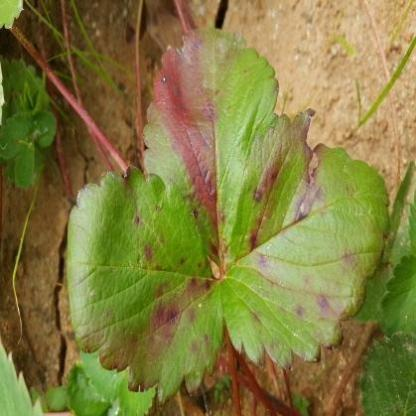Strawberry_Leaf_Spot: (221, 110, 392, 372), (66, 166, 224, 413), (141, 27, 280, 272)
